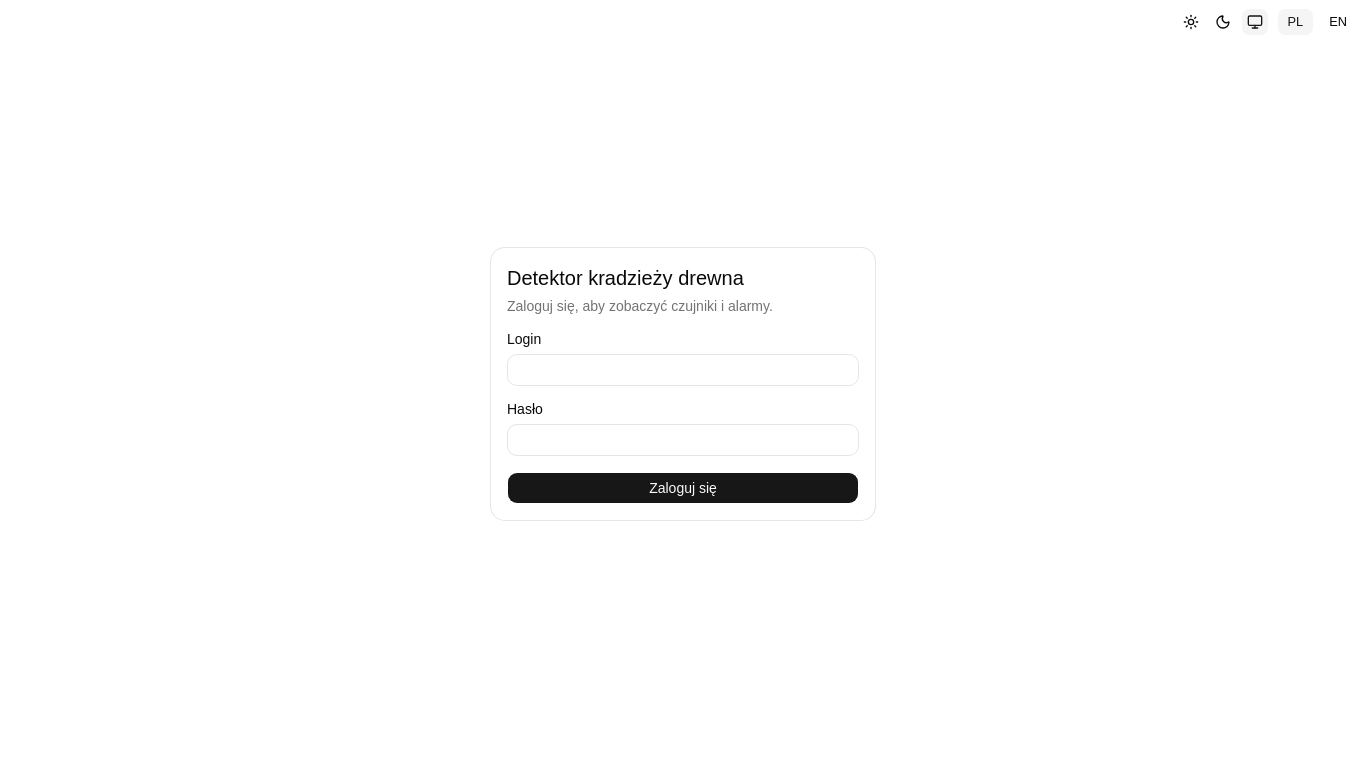
admin panel › opens right after the admin signs in, on the users section
Type "admin" into the field labelled "Login" at (683, 370), box [507,354,859,386]
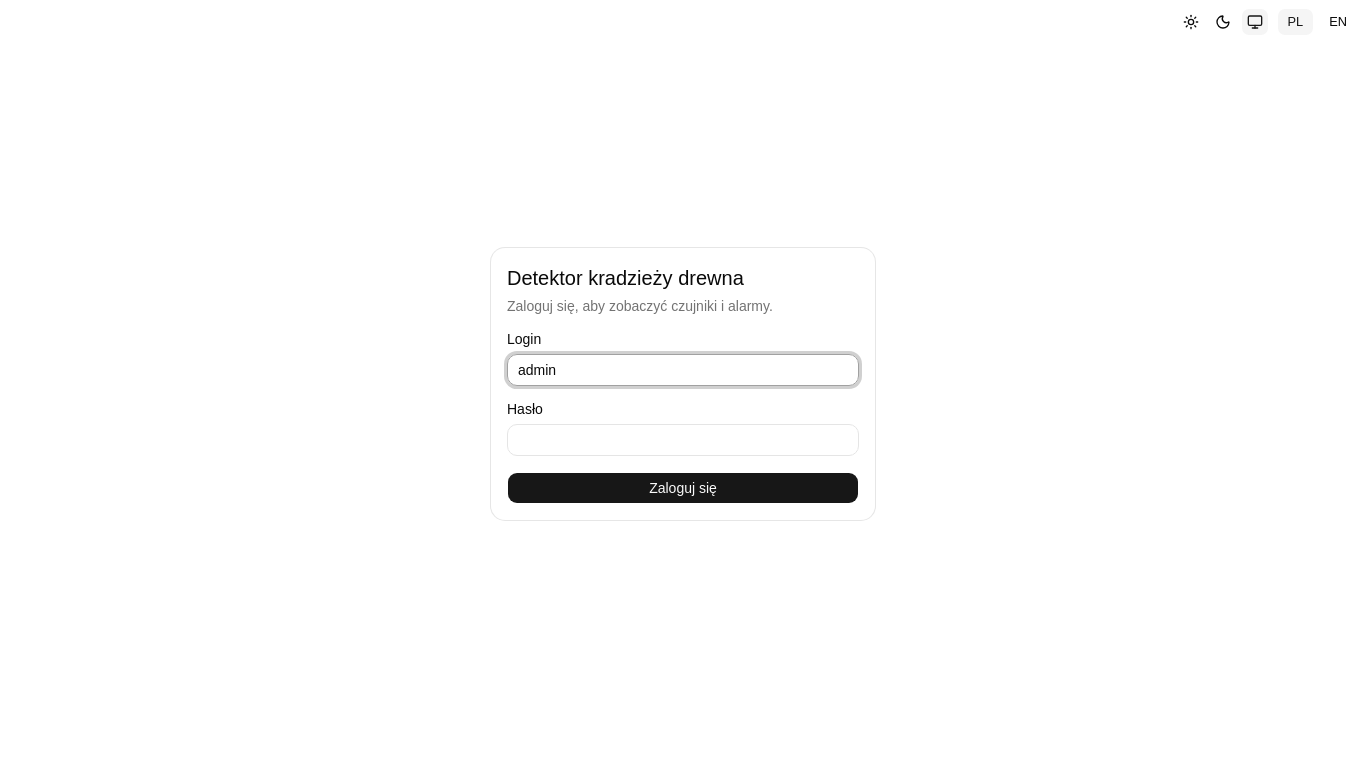
Type "admin123" into the password field labelled "Hasło" at (683, 440), box [507,424,859,456]
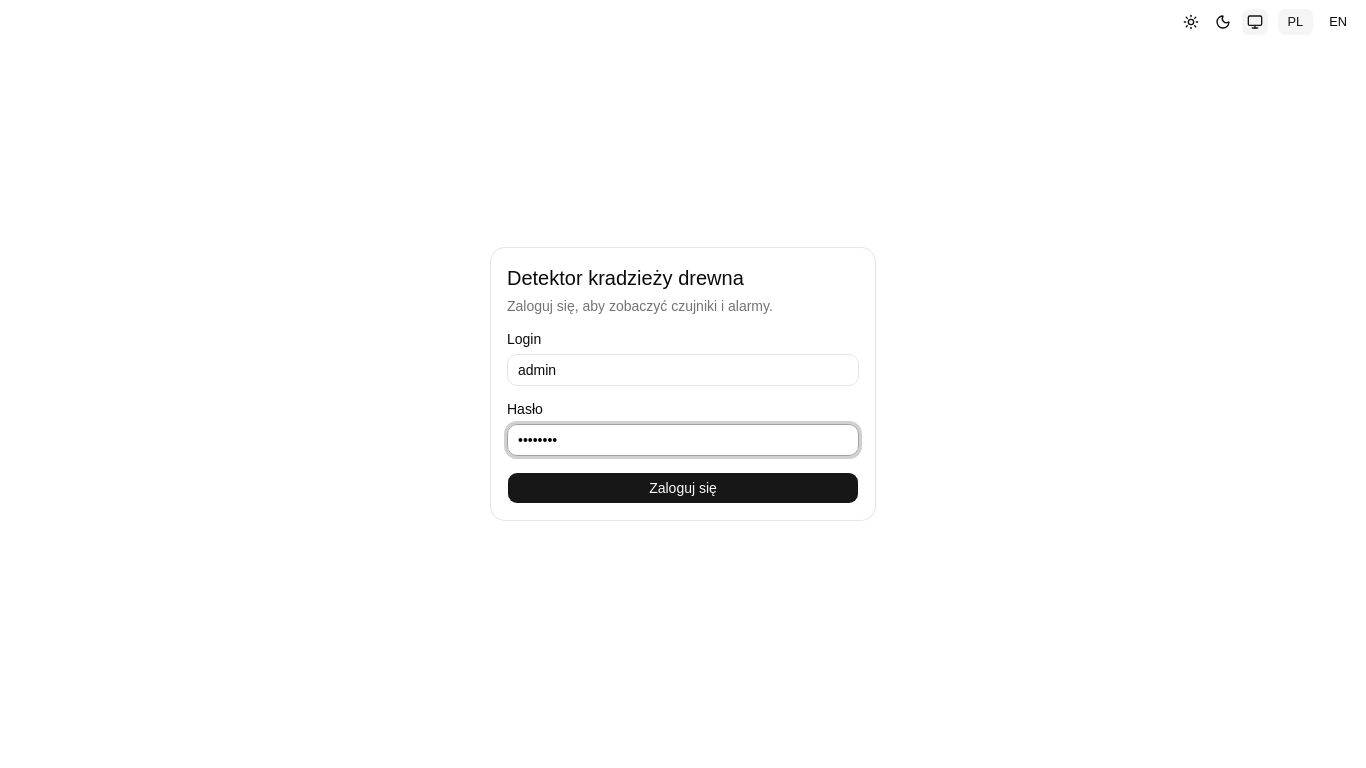
Click the button "Zaloguj się" at (683, 488), box [507,472,859,504]
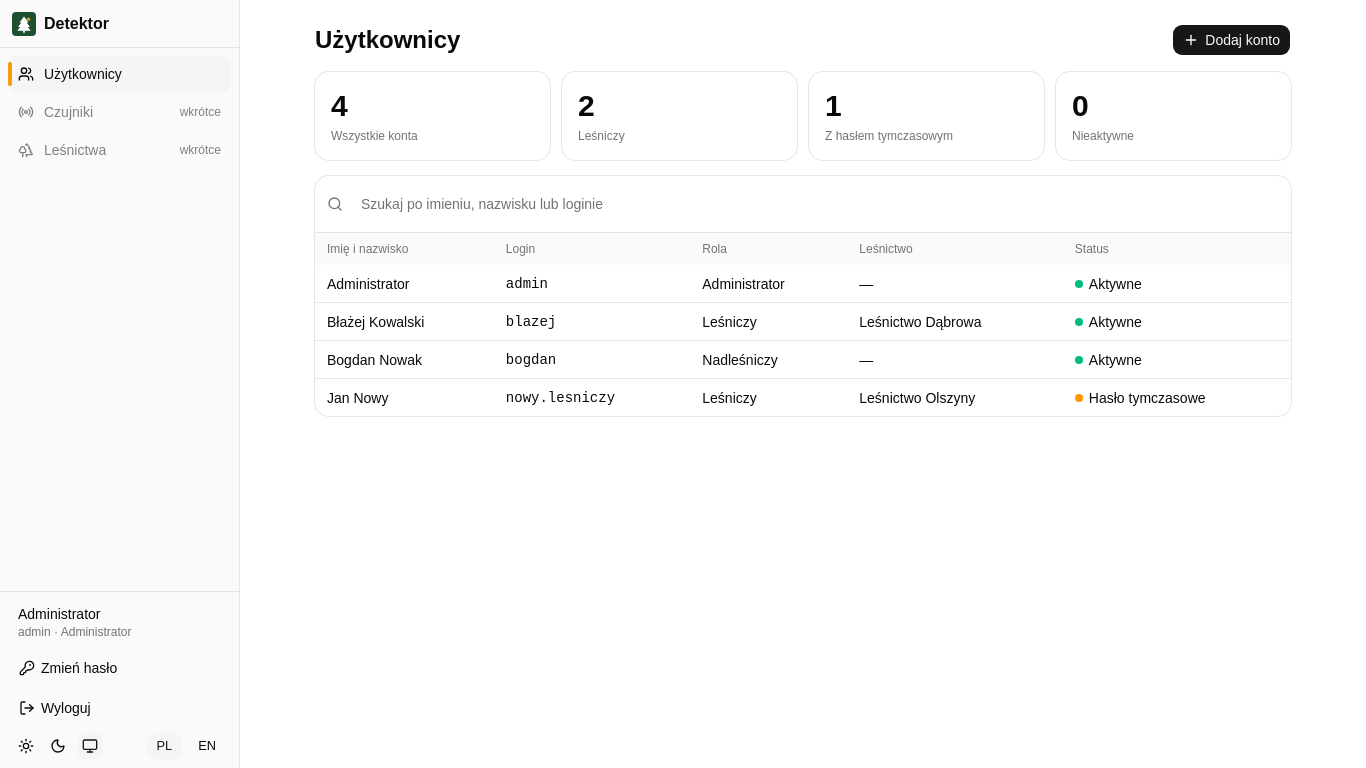
Result: the button "Czujniki wkrótce" is disabled at [8,94,231,130]
Result: the heading "Użytkownicy" is shown at [315,24,460,56]
Result: the text "Błażej Kowalski" is shown at [315,302,494,340]
